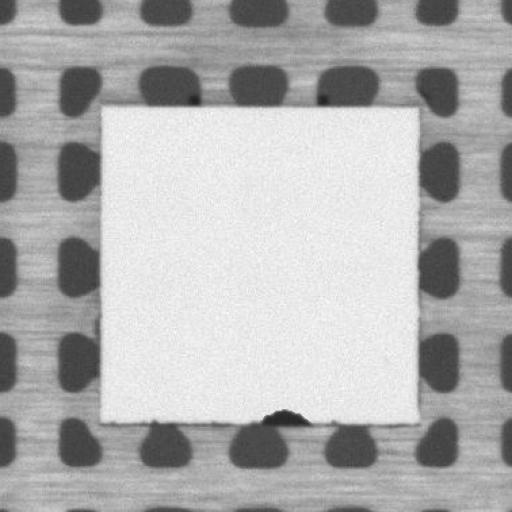DIE_BROKEN: (254, 405, 312, 427)
